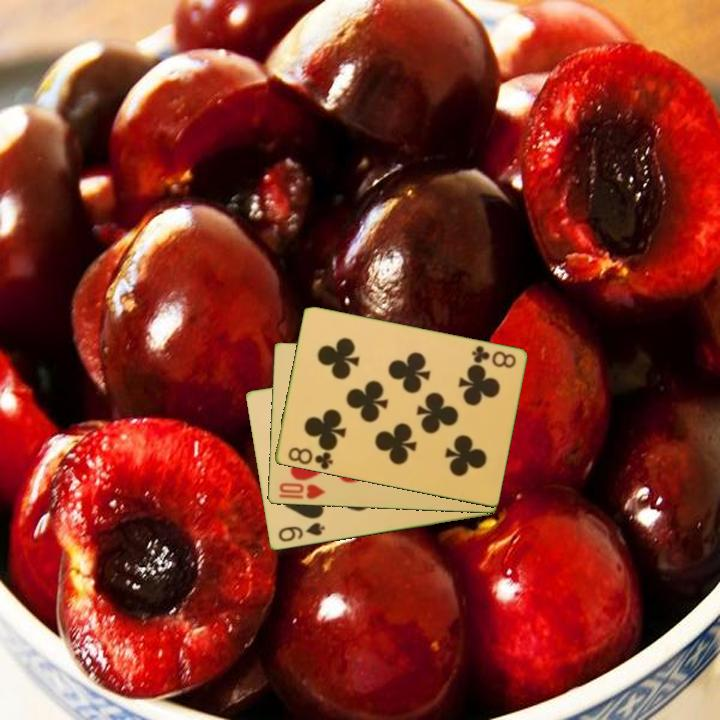10h: (275, 480, 327, 503)
8c: (284, 444, 336, 472), (468, 342, 518, 371)
9s: (275, 519, 327, 545)
